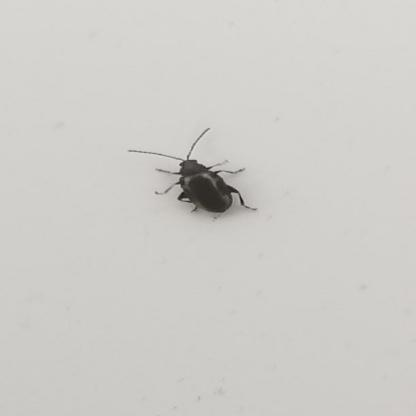beetle: (124, 124, 263, 222)
